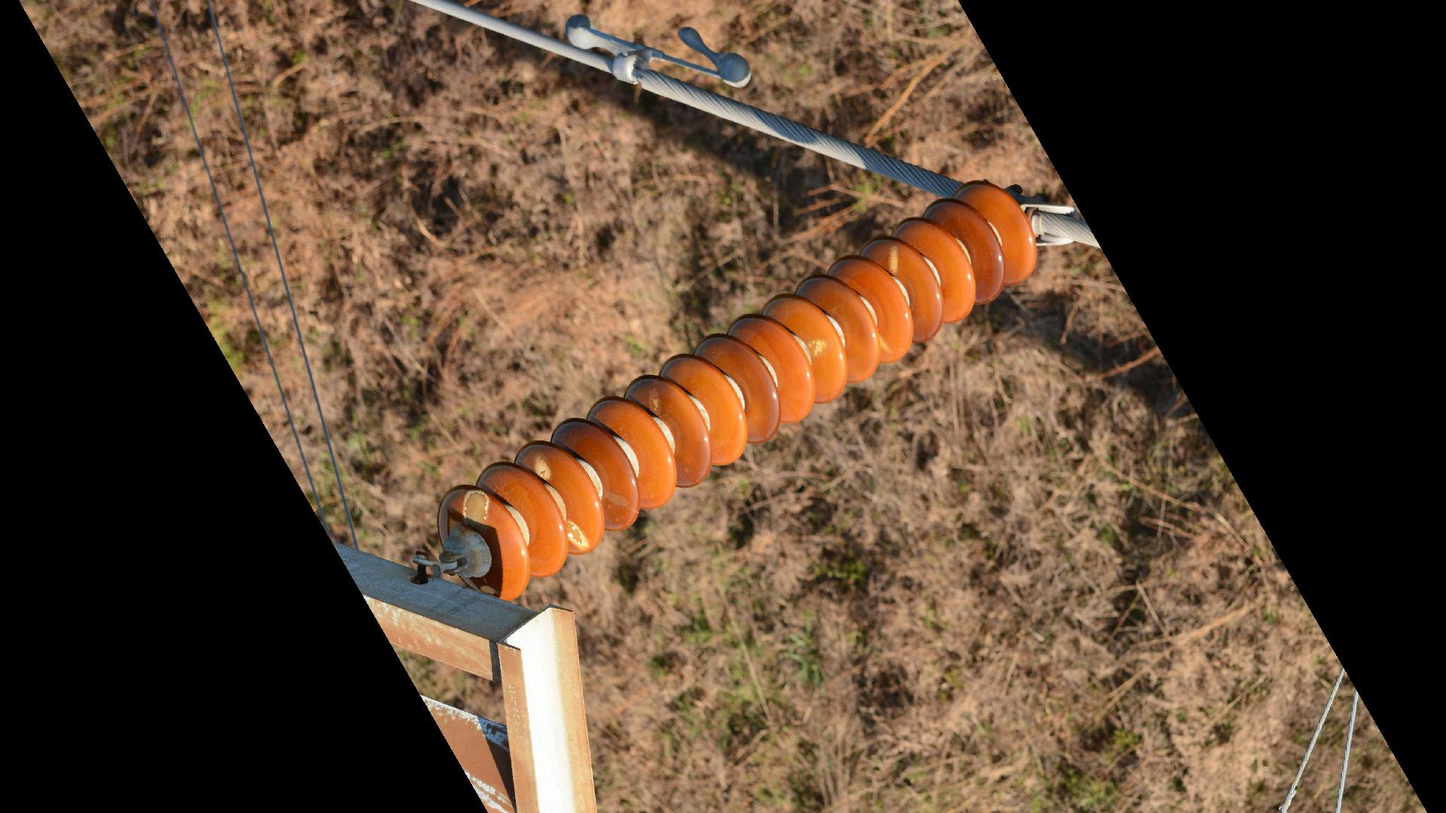insulator: (435, 177, 1042, 604)
insulator_flashover: (460, 489, 492, 531), (562, 518, 592, 552), (530, 452, 554, 482), (643, 383, 664, 417), (886, 241, 903, 277), (804, 336, 831, 358)
